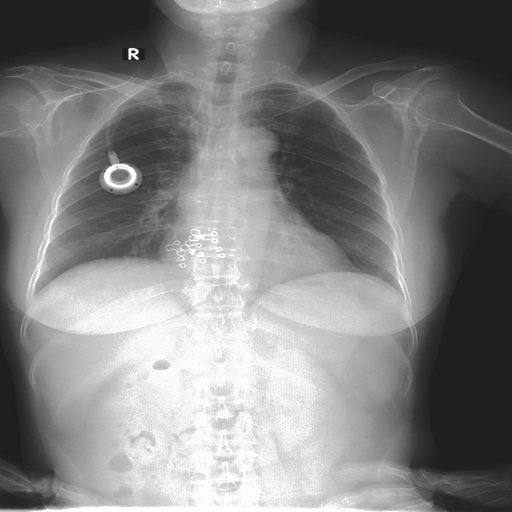Consolidation: (233, 127, 279, 177)
Nodule/Mass: (155, 236, 356, 293)
